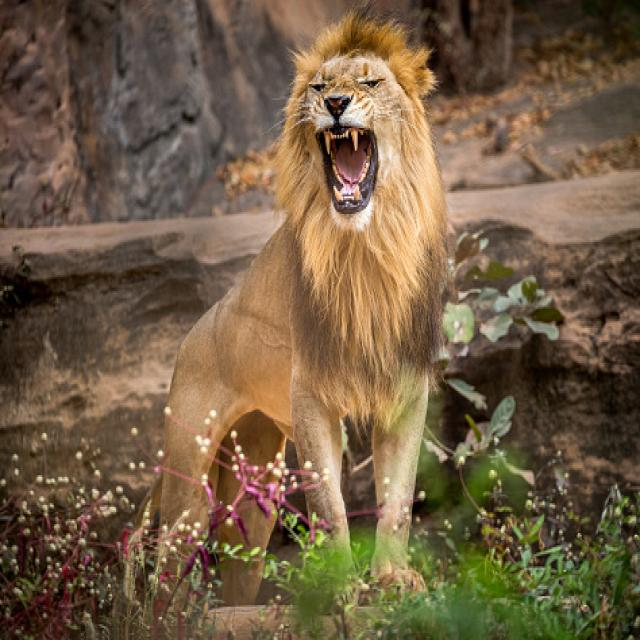Lion: (149, 51, 426, 603)
